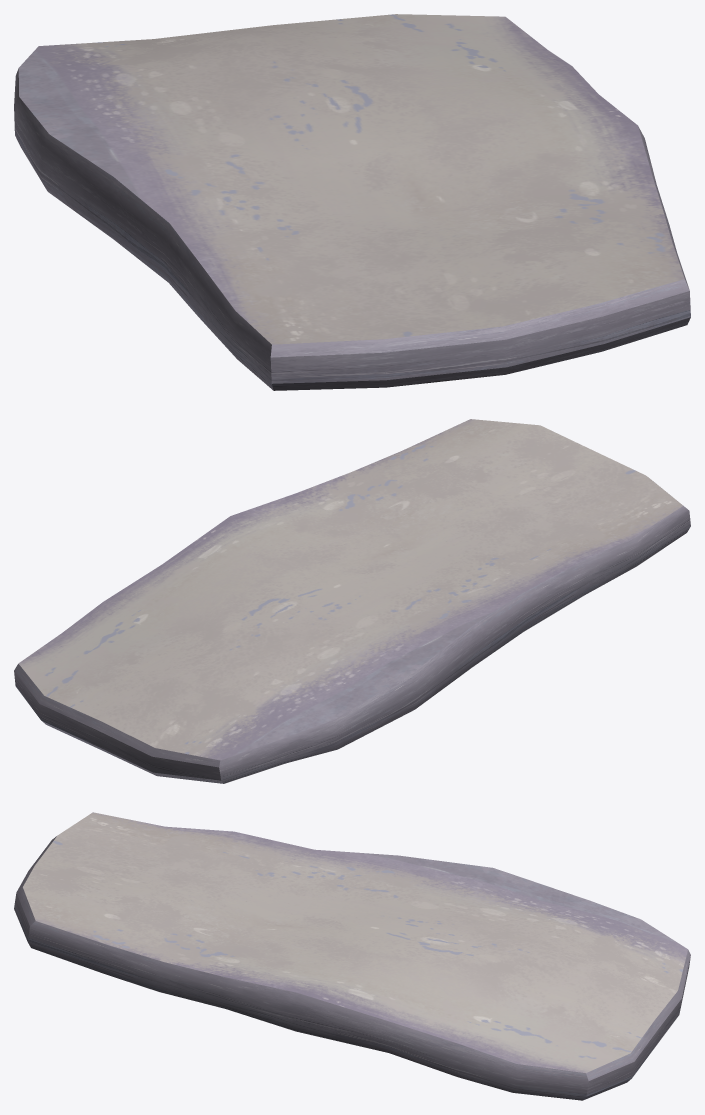
Rendered from flat_rock_2.fbx.
3 renders of one model, top to bottom at view 1: azimuth 30°, elevation 25°; view 2: azimuth 150°, elevation 25°; view 3: azimuth 270°, elevation 25°, orthographic. The views are drawn at different scales.
Parts seen in each view (by area): view 1: flat rock 2; view 2: flat rock 2; view 3: flat rock 2.
Boxes of the visible parts, left/top/right/bottom form: flat rock 2: left=14, top=14, right=690, bottom=390; flat rock 2: left=14, top=419, right=690, bottom=783; flat rock 2: left=14, top=812, right=690, bottom=1100.
Bounding box in the file's own units: 4292 × 1131 × 6266.
